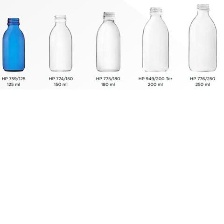bottle: (185, 2, 219, 74), (140, 4, 169, 74), (94, 8, 121, 74), (46, 13, 74, 74), (1, 14, 28, 72)
